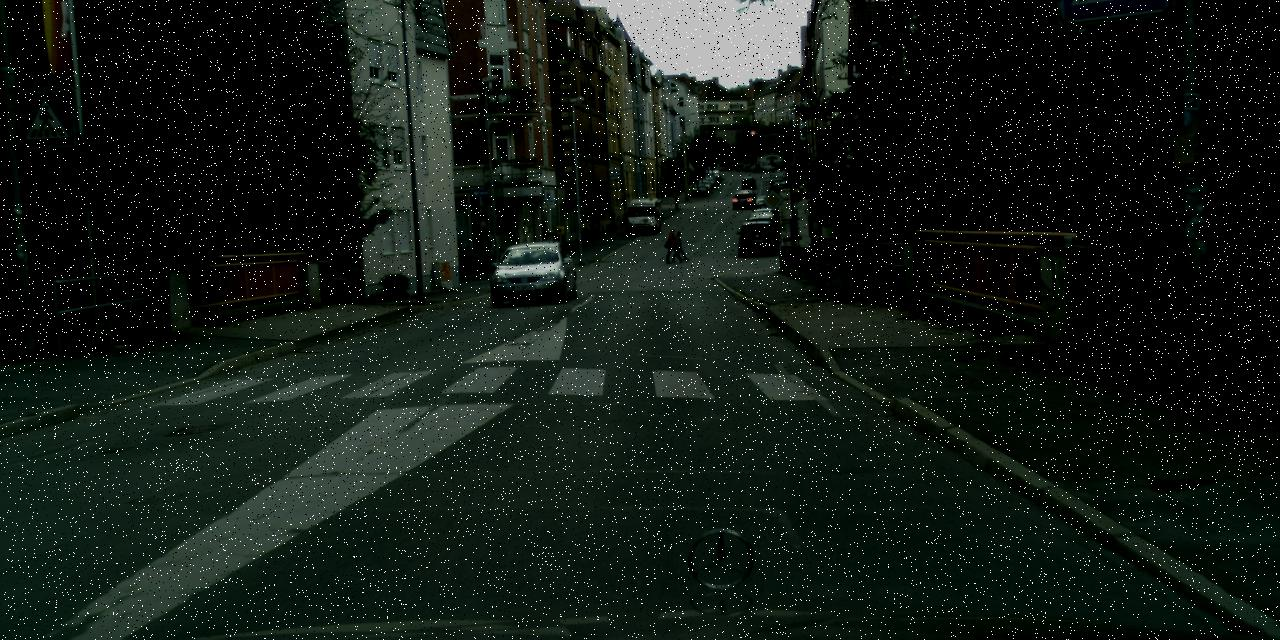ped: (666, 226, 681, 262), (674, 231, 686, 261)
